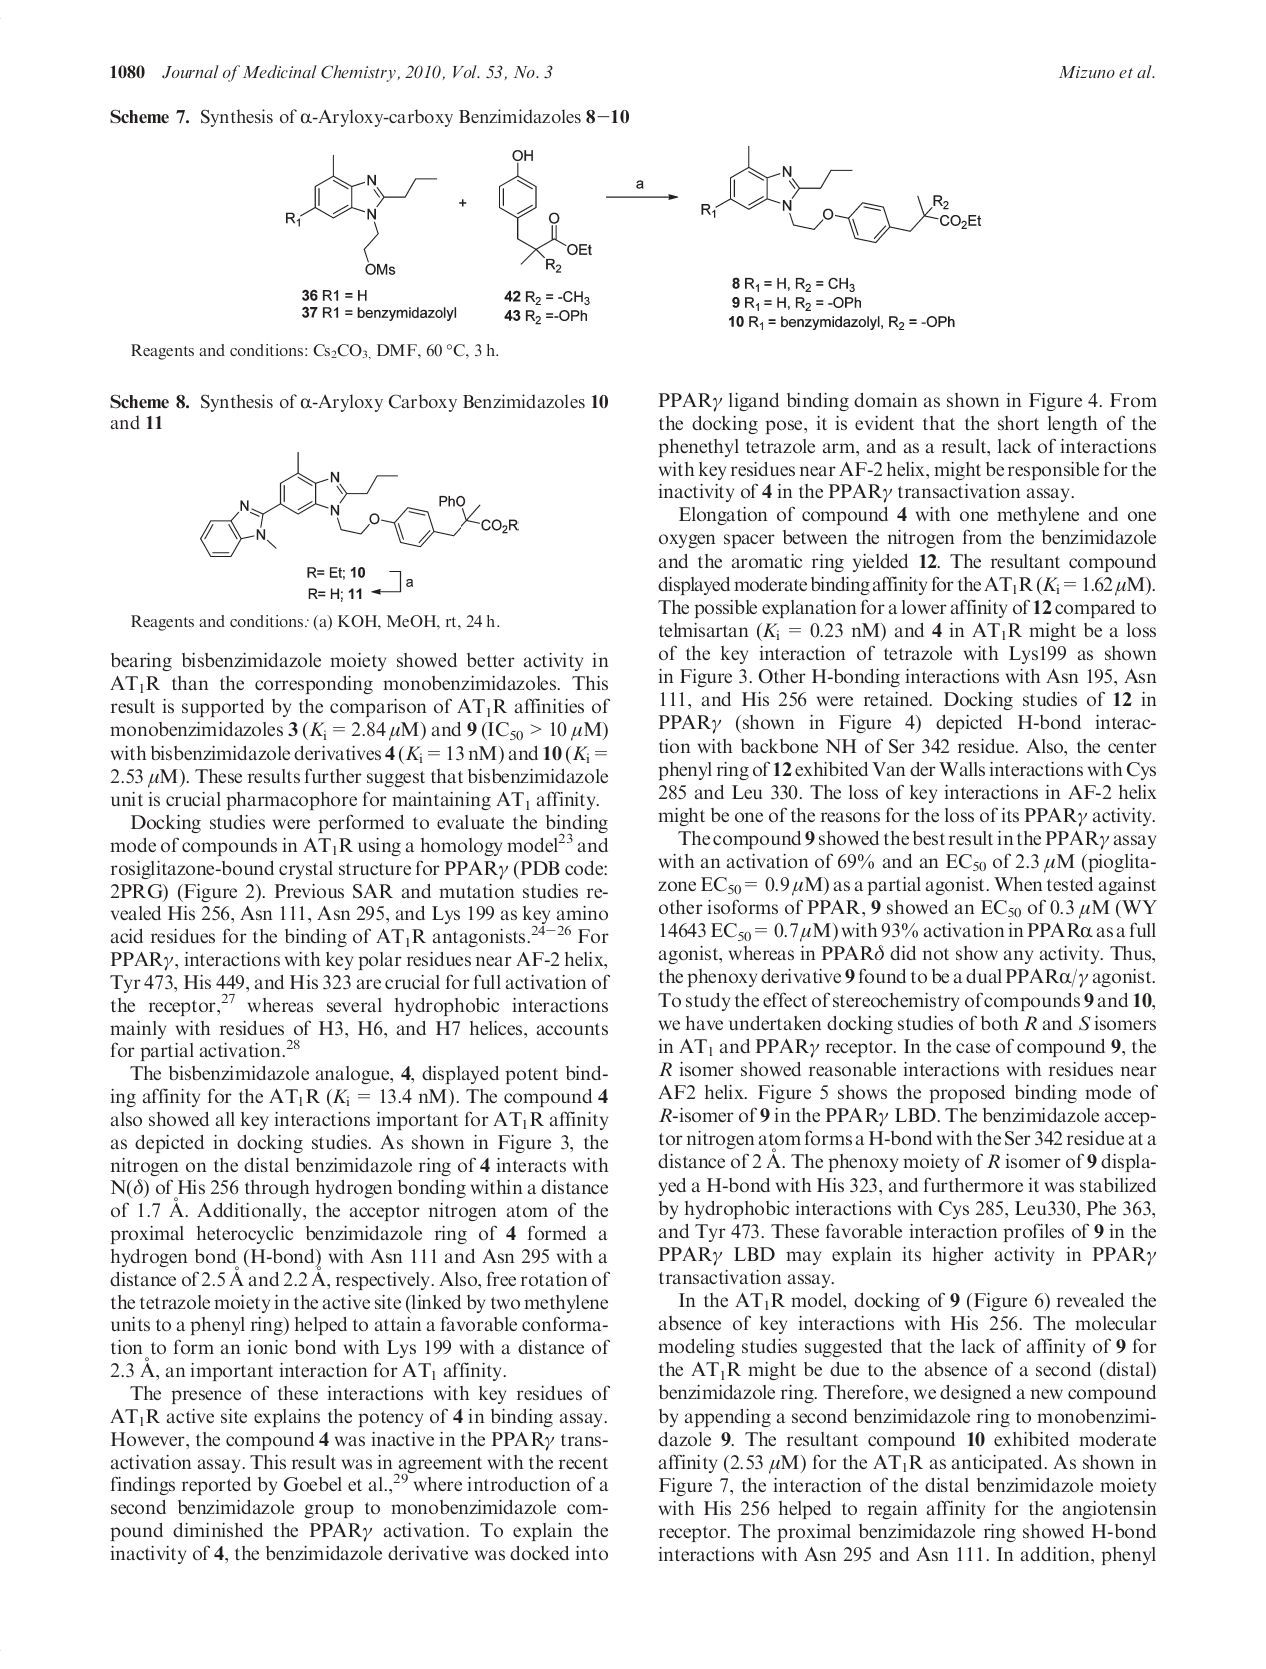exist_molecular: (198, 449, 521, 560), (699, 144, 983, 245), (285, 152, 438, 277), (497, 144, 593, 275)
